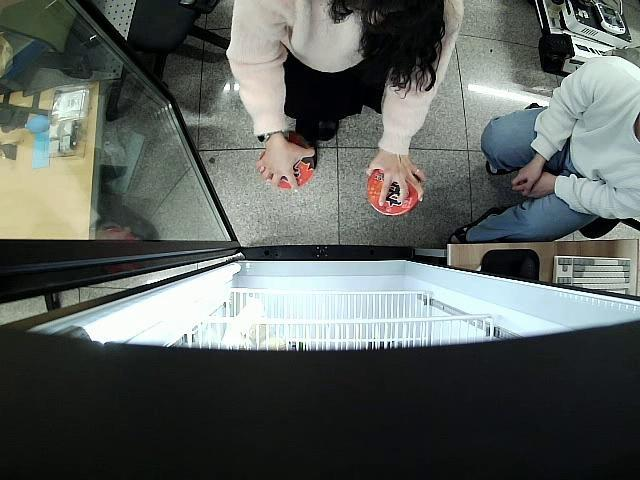01_ShinRamen_L: (364, 166, 422, 215), (262, 140, 316, 192)
